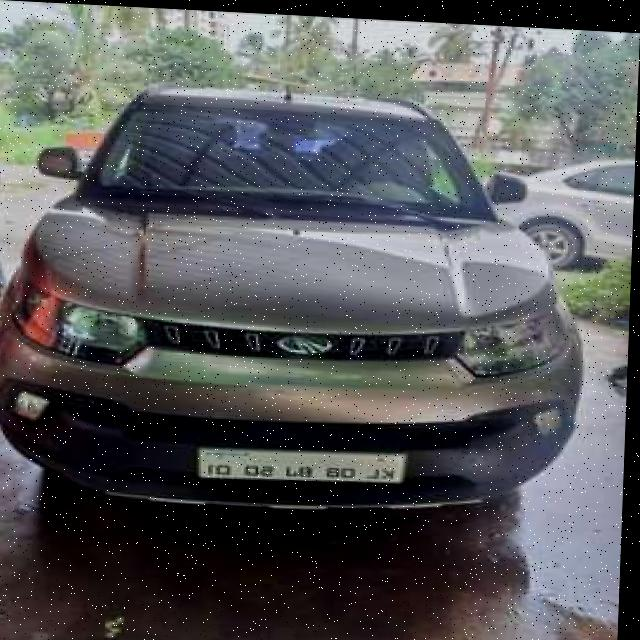plate: (202, 442, 410, 485)
